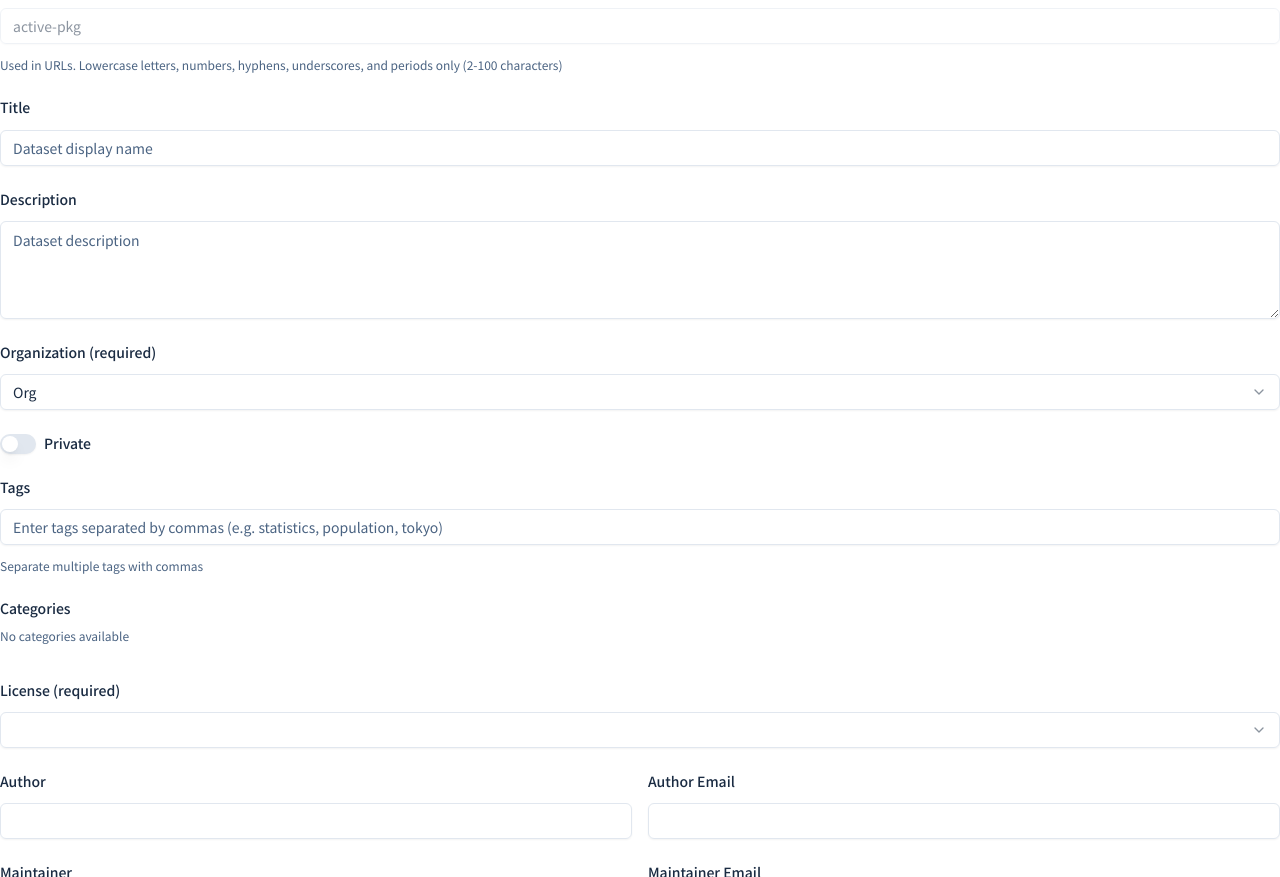
DatasetForm (draft flows) › edit mode (active) › should PUT the update and disable Save again after a successful save
Replace the text in the field labelled "Tags" with "stats" at (640, 527), box [0,509,1279,545]
(page scrolled)
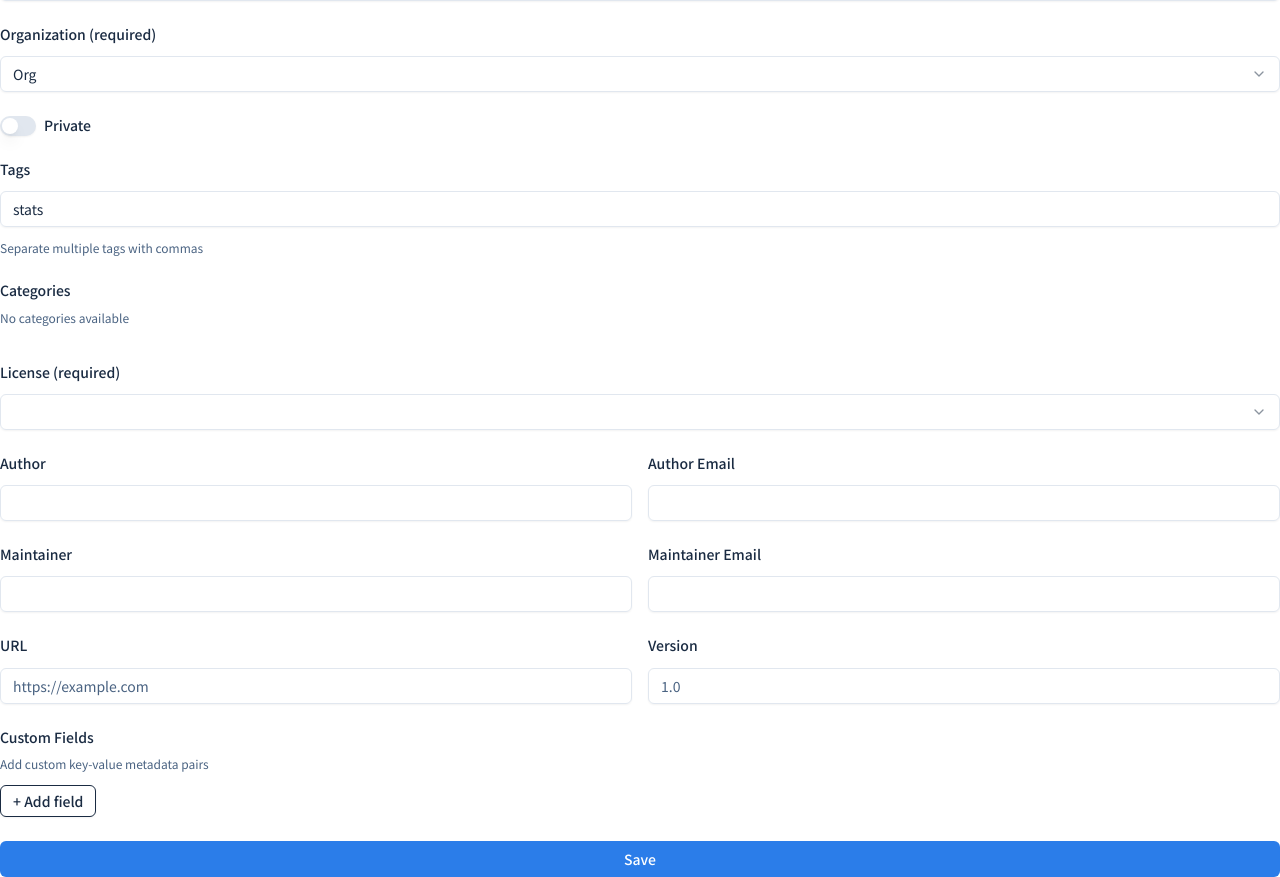
Click the button "Save" at (640, 859), box [0,841,1279,876]
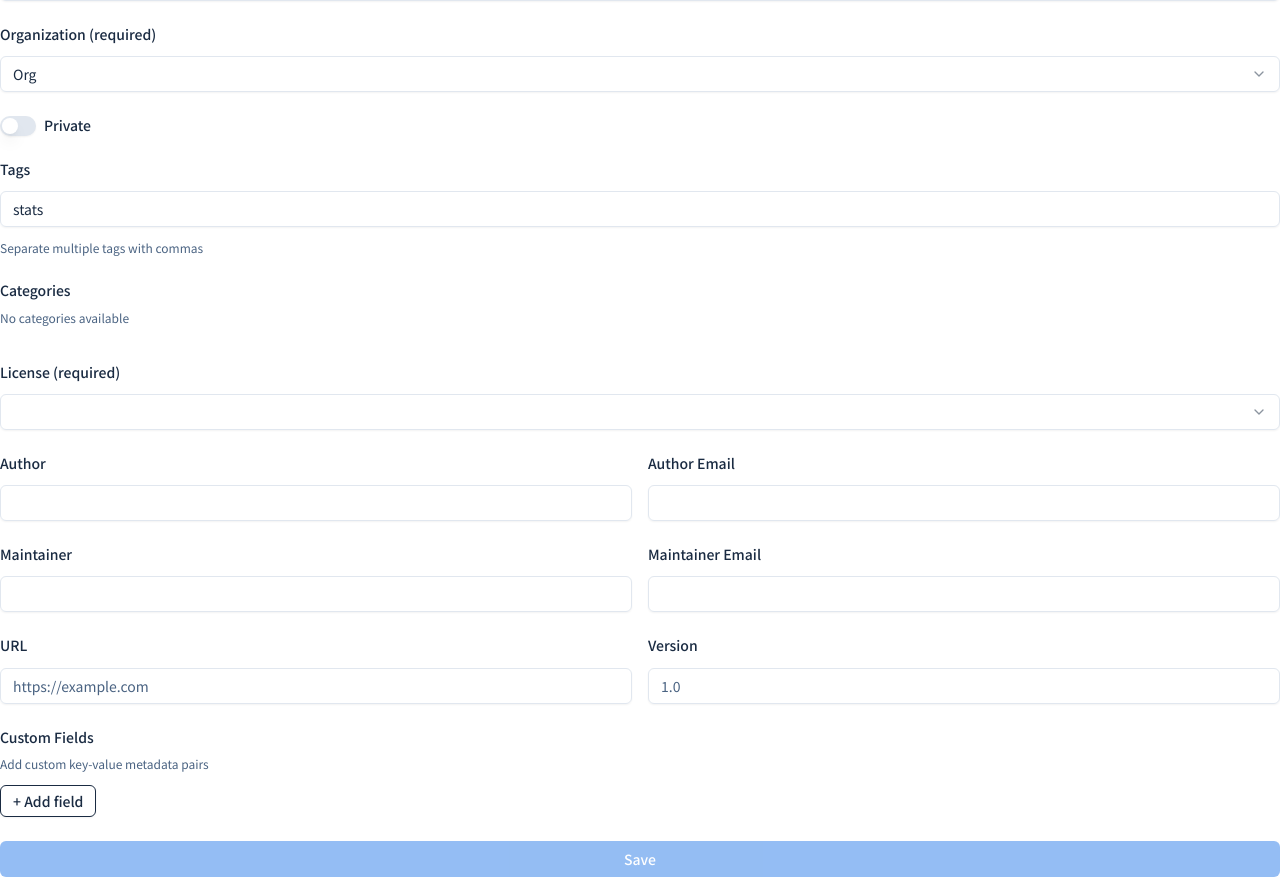
Now the button "Save" is disabled, box [0,841,1279,876]
